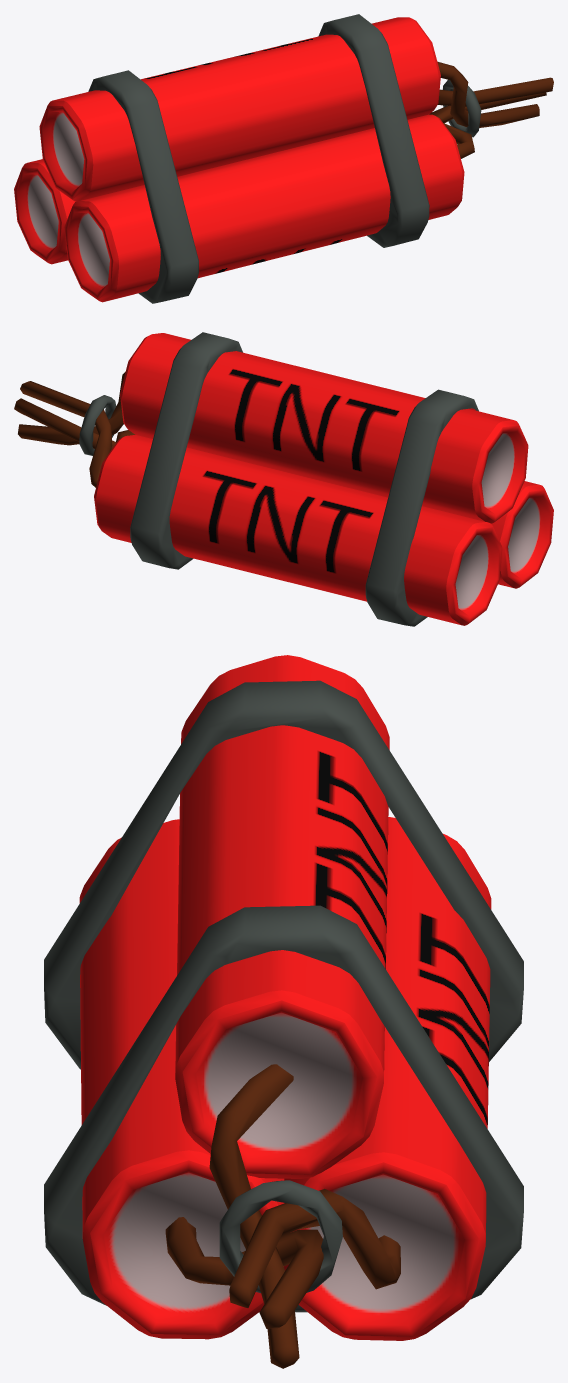
Rendered from TNT_3.fbx.
The picture shows the model from 3 angles, top to bottom: view 1: azimuth 30°, elevation 25°; view 2: azimuth 150°, elevation 25°; view 3: azimuth 270°, elevation 25°; orthographic projection. The views are drawn at different scales.
Visible parts, largest first — view 1: TNT3.002, TNT3.001, Ties, fetil, TNT3, Ring; view 2: TNT3.002, TNT3, Ties, fetil, TNT3.001, Ring; view 3: TNT3.002, Ties, TNT3, TNT3.001, fetil, Ring.
Boxes of the visible parts, x1,y1,x2,y2 form: TNT3.002: [39, 17, 440, 201]; TNT3.001: [64, 114, 464, 302]; Ties: [88, 14, 429, 303]; fetil: [429, 61, 553, 158]; TNT3: [14, 159, 75, 264]; Ring: [442, 79, 481, 137]; TNT3.002: [120, 333, 528, 523]; TNT3: [94, 435, 502, 625]; Ties: [130, 332, 478, 626]; fetil: [14, 372, 134, 487]; TNT3.001: [491, 481, 553, 588]; Ring: [79, 395, 116, 455]; TNT3.002: [175, 655, 389, 1178]; Ties: [44, 680, 523, 1312]; TNT3: [284, 817, 491, 1340]; TNT3.001: [79, 819, 284, 1339]; fetil: [165, 1064, 400, 1368]; Ring: [219, 1180, 342, 1293].
Size of what is drawn, in the model's own units: 2.5 by 0.9431 by 1.08.
